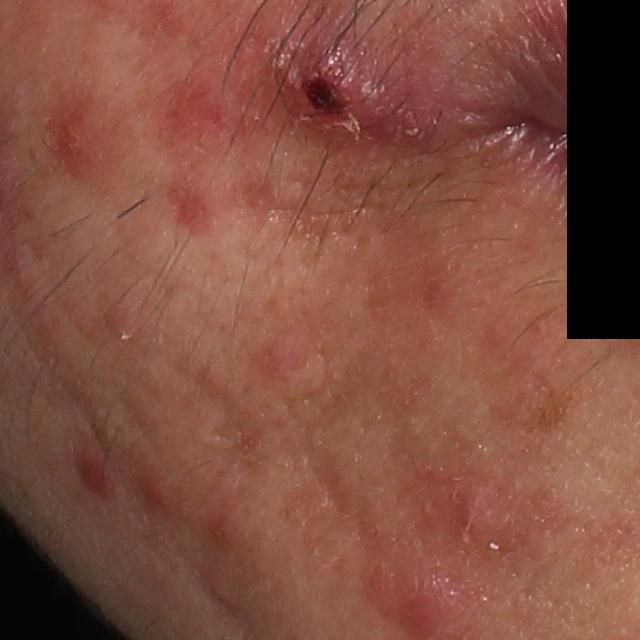papule: (263, 22, 421, 143), (55, 93, 116, 176), (445, 486, 505, 563), (125, 464, 178, 519), (194, 516, 248, 557), (78, 449, 121, 494)
